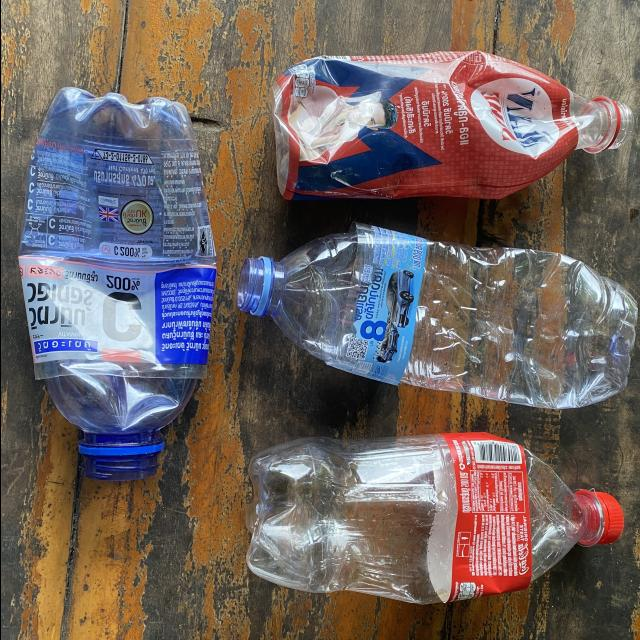plastik: (18, 88, 215, 481), (236, 224, 636, 409), (245, 433, 623, 604), (272, 51, 633, 199)
